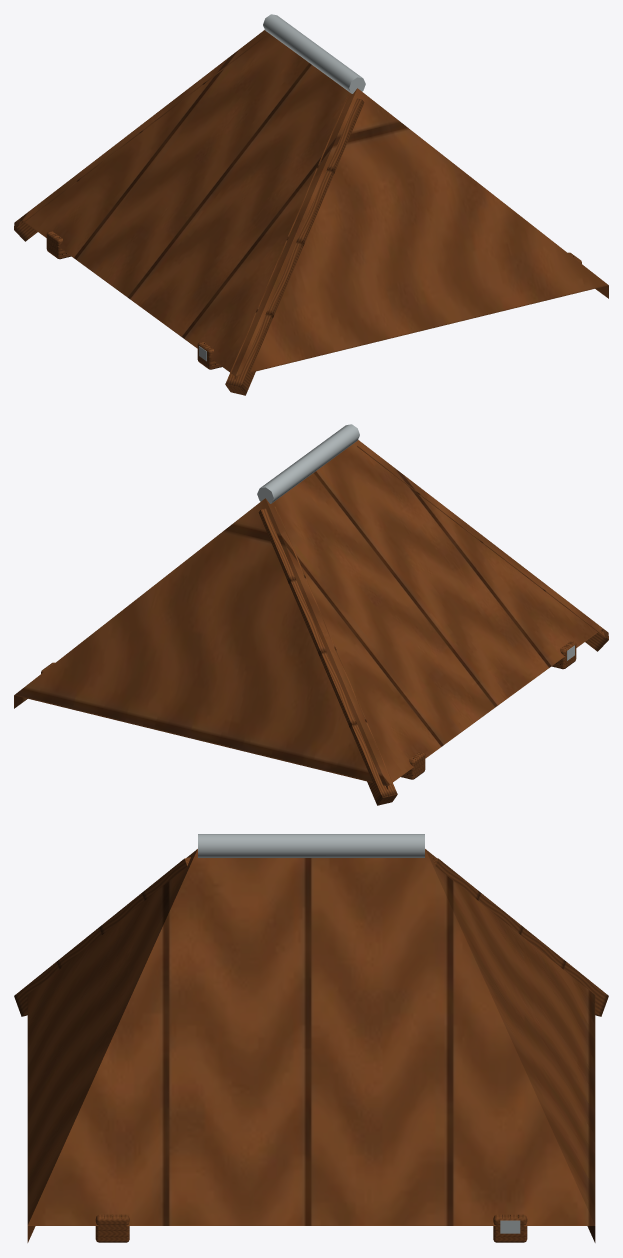
Rendered from modular-survival-base-builder-roof-hip-corner-reinforc-340fe955__24309.glb.
3 views of the same model, one above another, from view 1: azimuth 30°, elevation 25°; view 2: azimuth 150°, elevation 25°; view 3: azimuth 270°, elevation 25° (orthographic). The views are drawn at different scales.
Visible parts, largest first — view 1: roof-hip-corner-reinforced; view 2: roof-hip-corner-reinforced; view 3: roof-hip-corner-reinforced.
Part boxes in pixels (<box>): roof-hip-corner-reinforced: <box>14,14,608,395</box>; roof-hip-corner-reinforced: <box>14,424,608,805</box>; roof-hip-corner-reinforced: <box>14,834,608,1242</box>.
Bounding box in the file's own units: 2.04 × 1.16 × 2.1.
2 materials, 1 textured.
